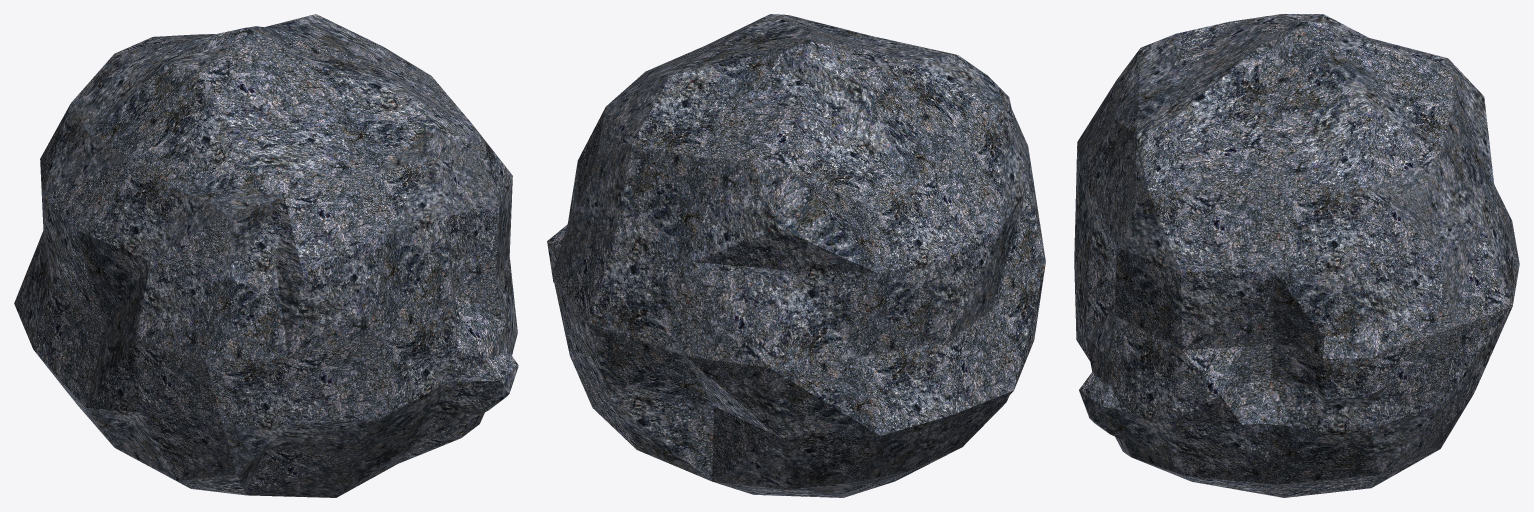
The model's file is planetoid_iron_s01_l2.fbx.
3 renders of one model, left to right at view 1: azimuth 30°, elevation 25°; view 2: azimuth 150°, elevation 25°; view 3: azimuth 270°, elevation 25°, orthographic.
Parts seen in each view (by area): view 1: mesh_node; view 2: mesh_node; view 3: mesh_node.
Boxes of the visible parts, x1,y1,x2,y2 form: mesh_node: [14, 14, 518, 497]; mesh_node: [547, 14, 1045, 497]; mesh_node: [1074, 14, 1519, 497].
Size of the model in its own units: 413 by 431 by 393.
